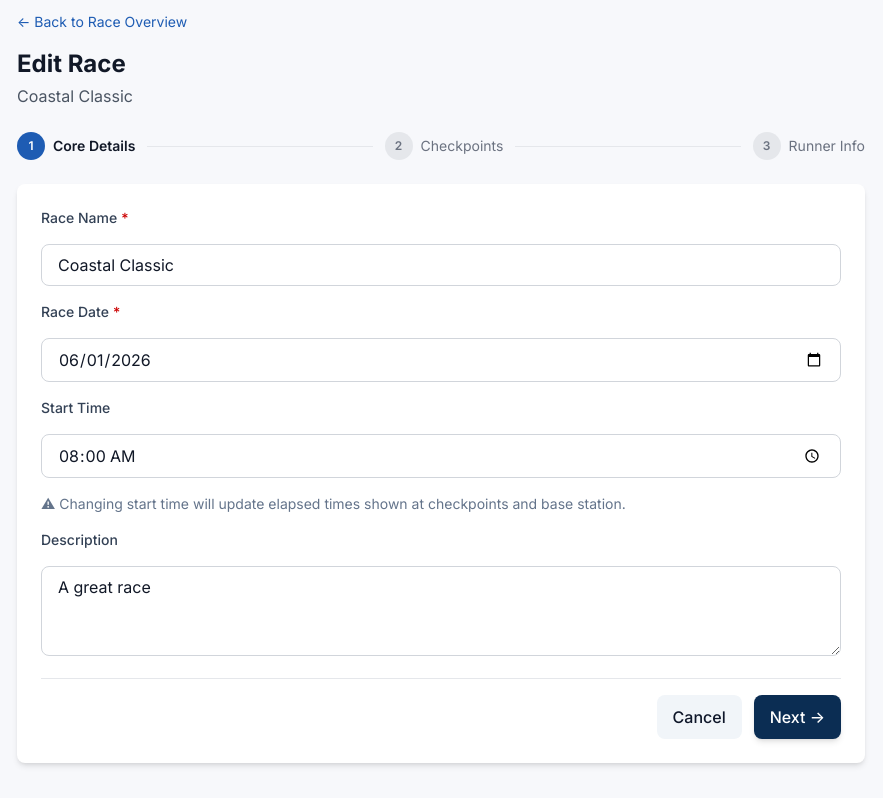
Scenario: RaceEditView › shows validation error when race name is cleared
Clear the field showing "Coastal Classic": (441, 265) [41,244,841,286]
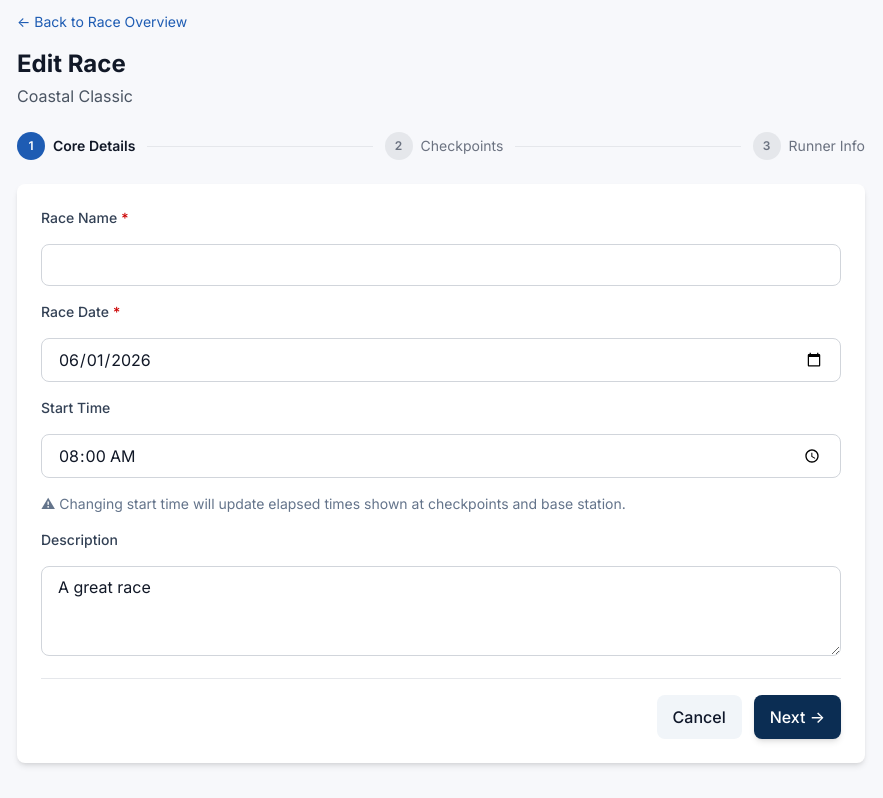
Click the button "Next →": (797, 717) [754,695,841,739]
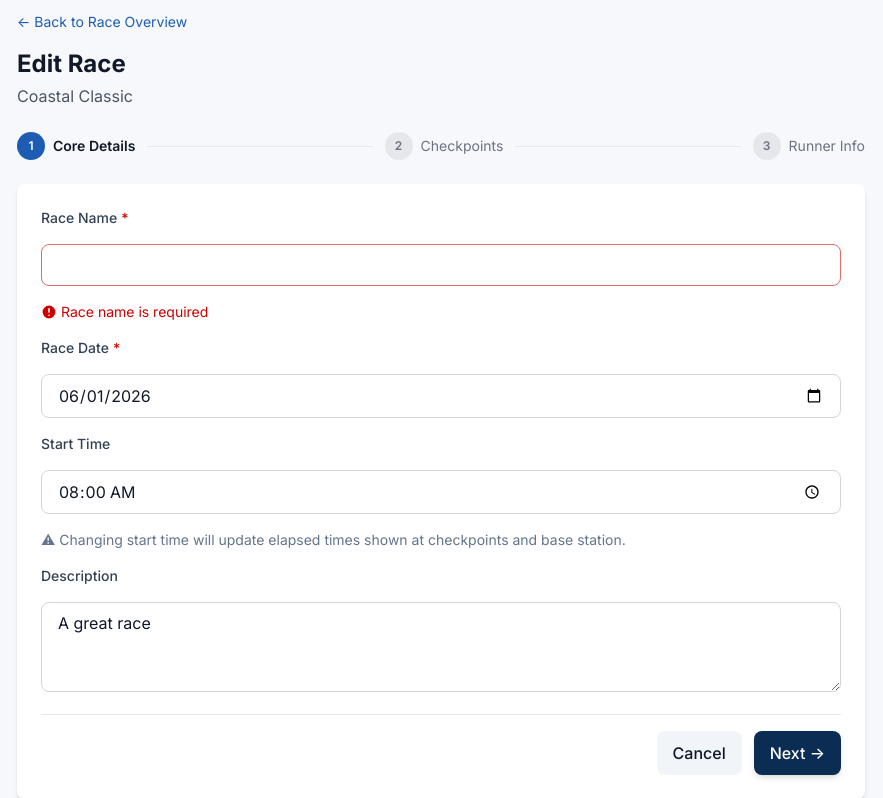
Expected: the text "Race name is required" is shown, [61,302,208,322]
